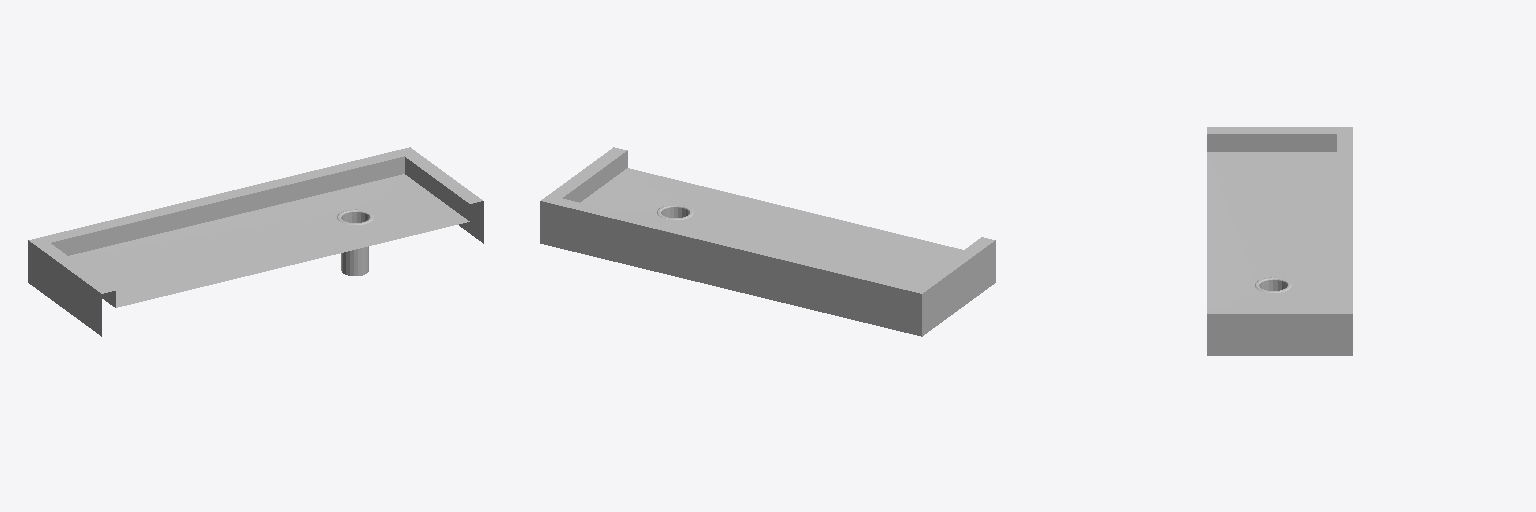
The model's file is holeEnd_right_A_1x3.obj.
The picture shows the model from 3 angles: view 1: azimuth 30°, elevation 25°; view 2: azimuth 150°, elevation 25°; view 3: azimuth 270°, elevation 25°; orthographic projection.
Visible parts, largest first — view 1: modelPanel2ViewSelectedSet holeEnd_right_A_1x3; view 2: modelPanel2ViewSelectedSet holeEnd_right_A_1x3; view 3: modelPanel2ViewSelectedSet holeEnd_right_A_1x3.
Boxes of the visible parts, box(x1,y1,x2,y2) form: modelPanel2ViewSelectedSet holeEnd_right_A_1x3: box(28, 147, 483, 336); modelPanel2ViewSelectedSet holeEnd_right_A_1x3: box(540, 147, 995, 336); modelPanel2ViewSelectedSet holeEnd_right_A_1x3: box(1207, 127, 1352, 355).
Size of the model in its own units: 3 by 0.5318 by 1.